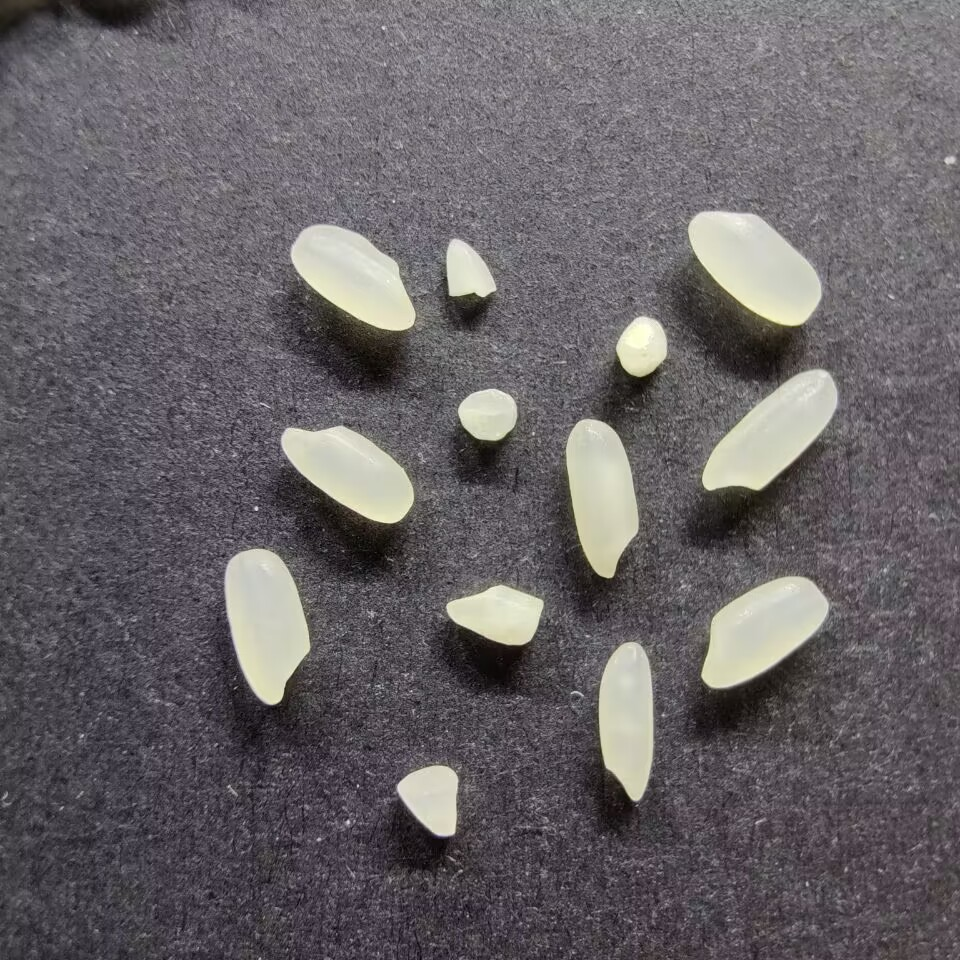broken: (444, 581, 549, 651), (396, 761, 462, 840), (613, 312, 671, 379), (456, 385, 517, 444), (444, 238, 500, 298)
rice: (699, 368, 839, 493), (686, 210, 823, 327), (698, 573, 831, 690), (289, 222, 417, 335), (222, 547, 312, 706), (279, 424, 416, 526), (563, 418, 641, 580), (596, 640, 655, 803)
